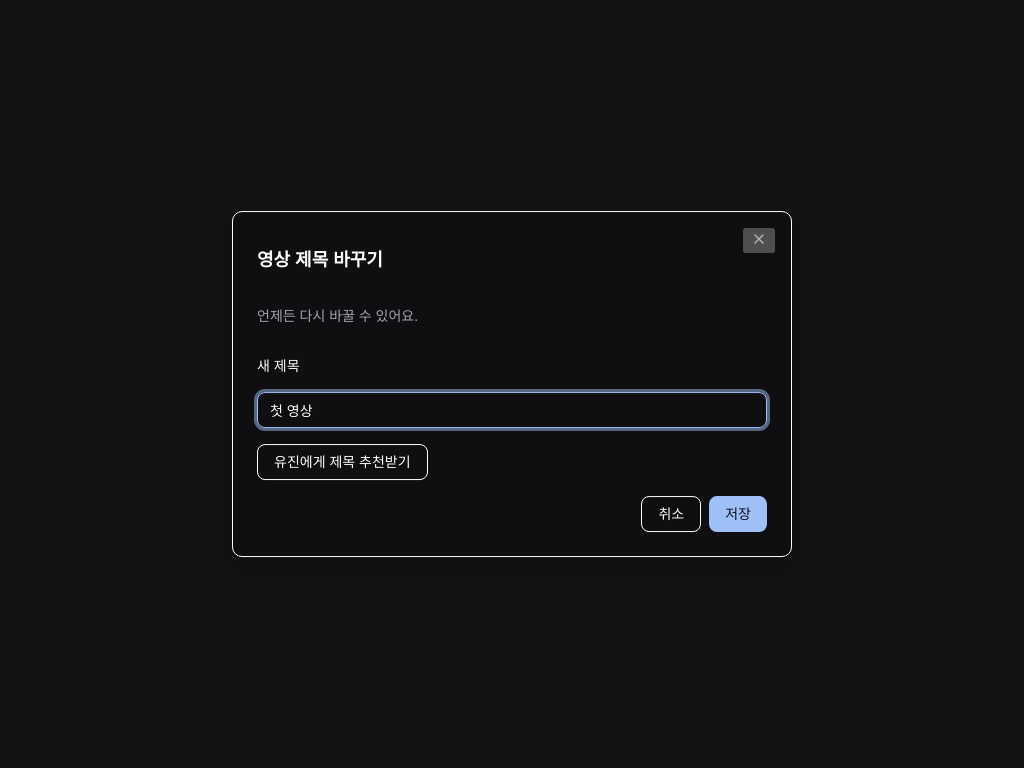
Test: 영상 제목 바꾸기 › 유진에게 물으면 추천 제목이 고를 수 있는 단추로 나온다
Click the button "유진에게 제목 추천받기" at point(342, 462), box [257,444,428,480]
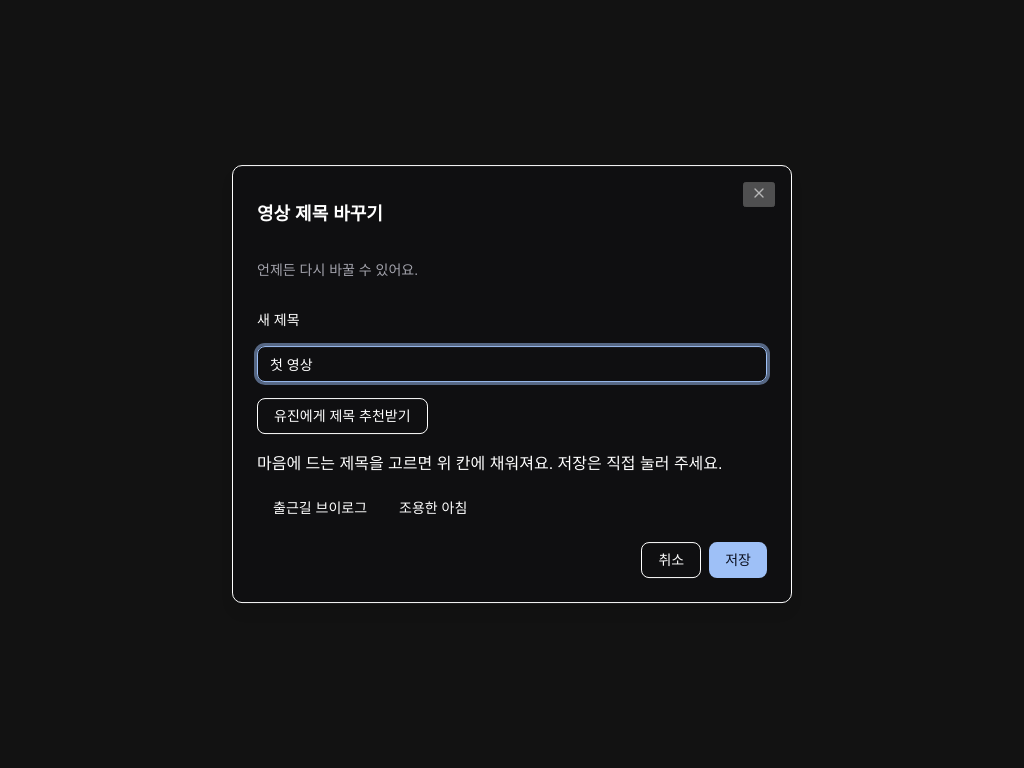
Expected: the button "조용한 아침" is shown, [383,490,483,526]
Click the button "출근길 브이로그" at point(320, 508), box [257,490,383,526]
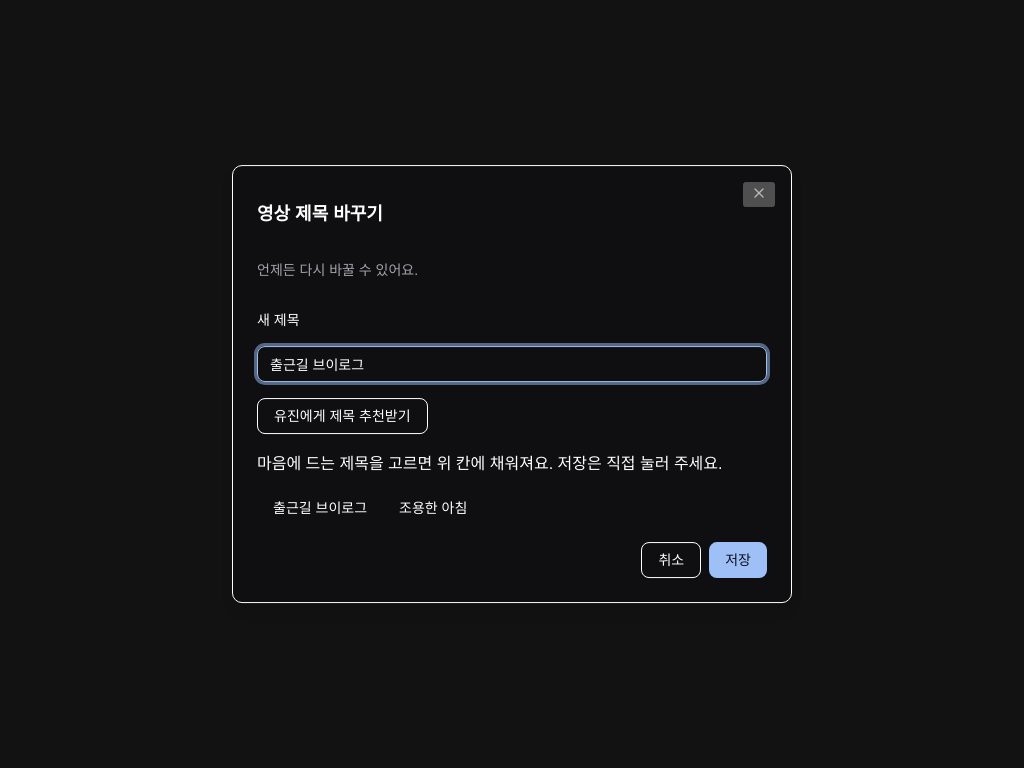
Expected: the field labelled "새 제목" holds "출근길 브이로그", [257,346,767,382]
